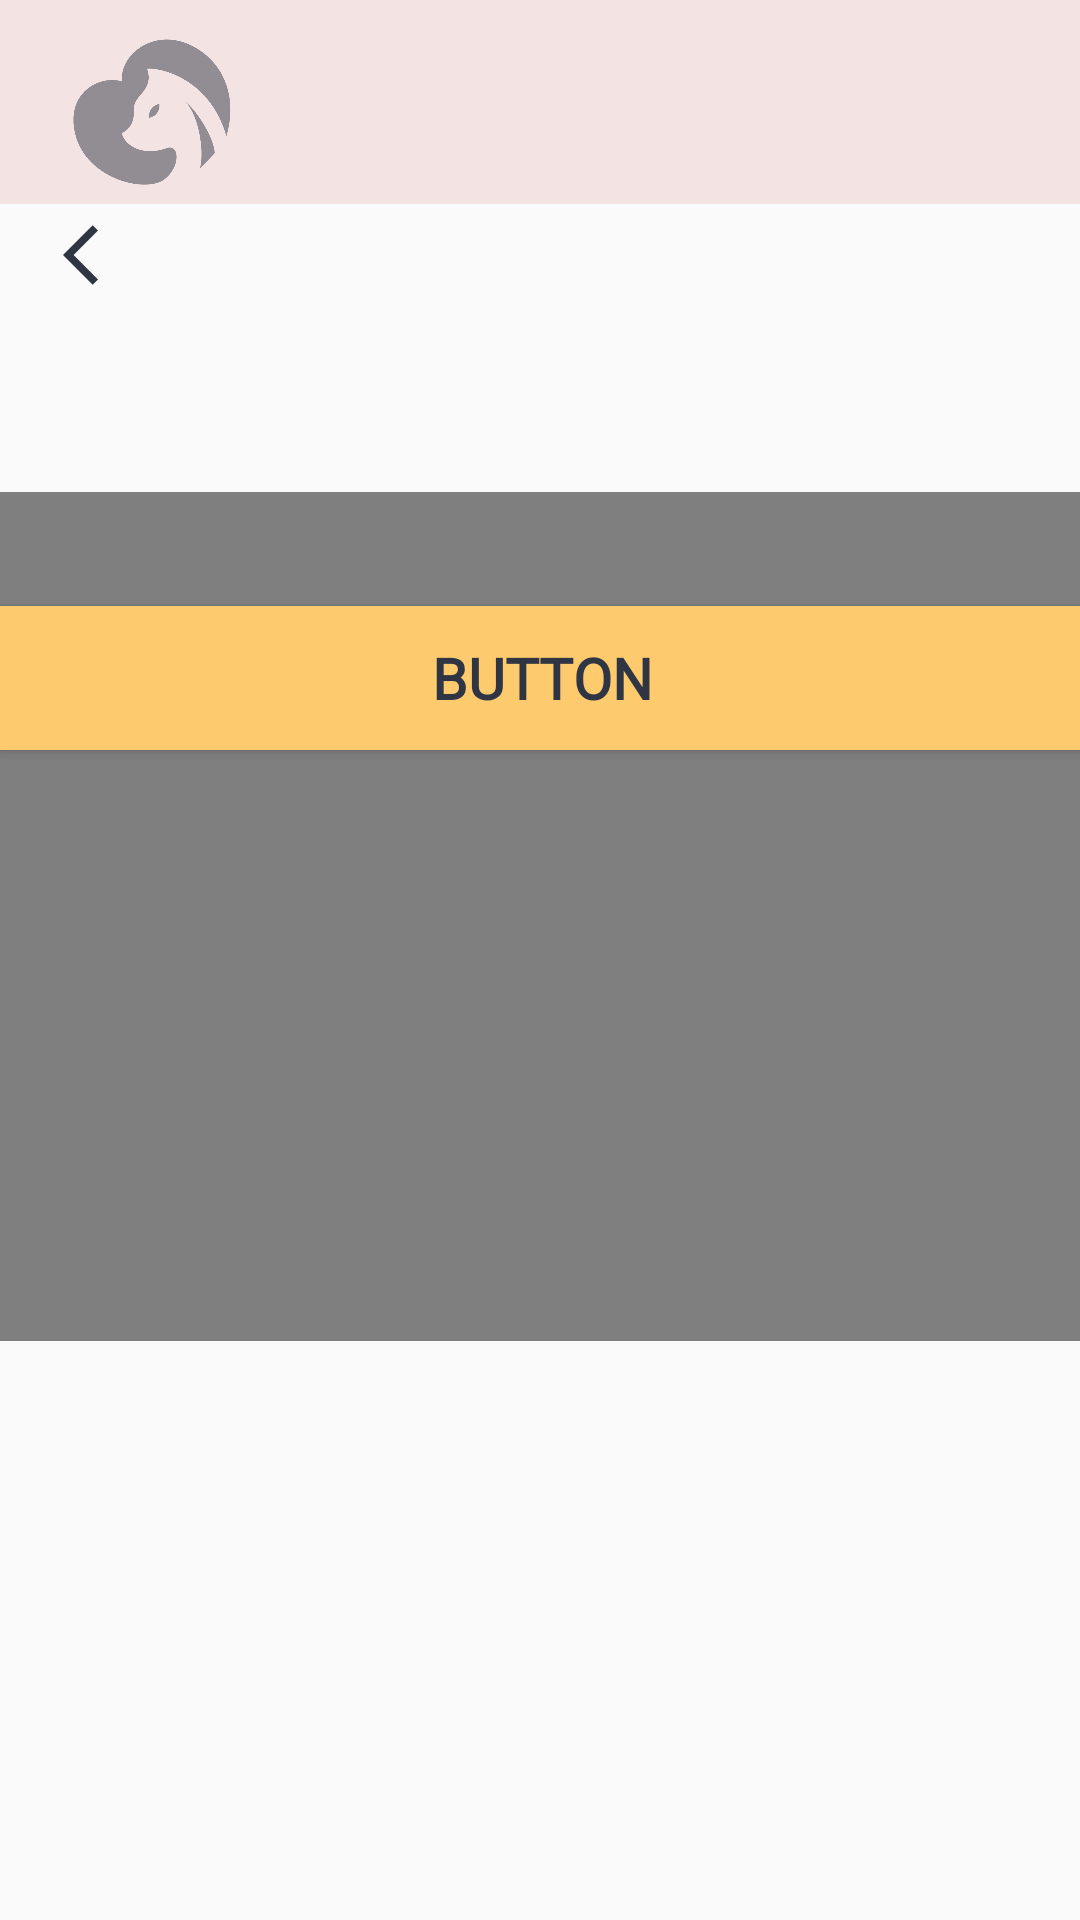

Named icons in this screenshot (1080w x 1920h) and their centers, (x,y):
back: (80,255)
